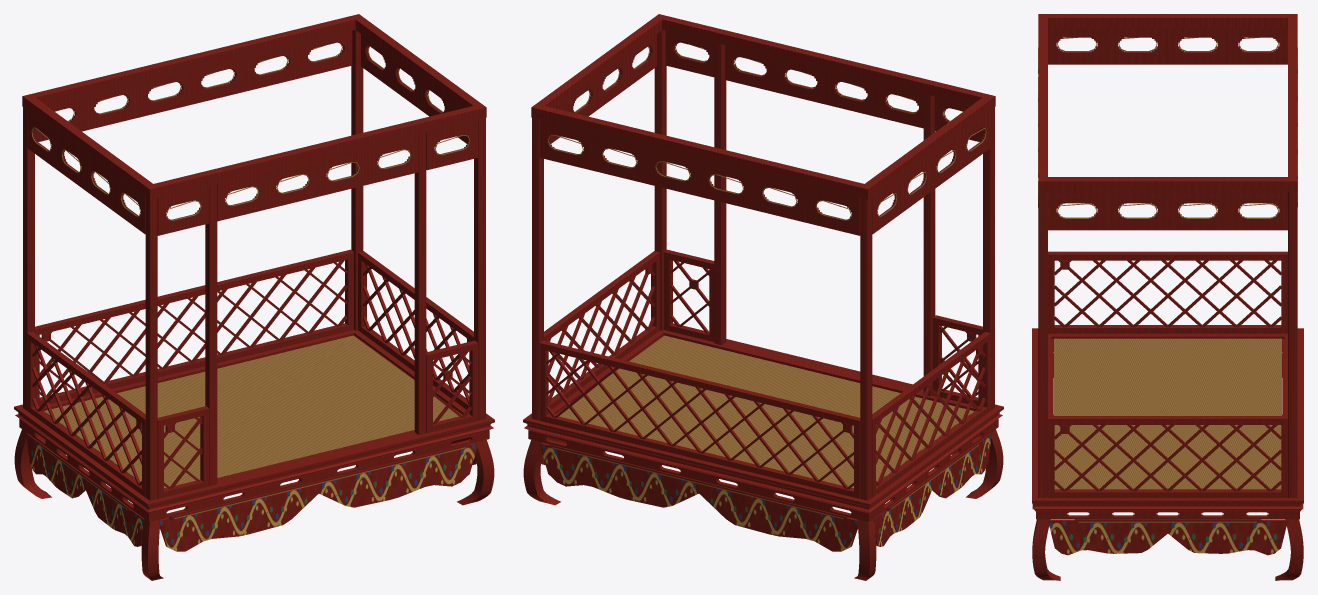
The model's file is tiqichuang-v1.glb.
The picture shows the model from 3 angles, left to right: view 1: azimuth 30°, elevation 25°; view 2: azimuth 150°, elevation 25°; view 3: azimuth 270°, elevation 25°; orthographic projection.
Parts seen in each view (by area): view 1: tengxi, guayan, zhu, weizi_kuang, dingkuang, weizi_ling, yatiao_cai, bingpan, shuyao, tui, diaoke, tuosai; view 2: guayan, tengxi, zhu, weizi_kuang, dingkuang, weizi_ling, yatiao_cai, bingpan, shuyao, tui, diaoke, tuosai; view 3: tengxi, guayan, dingkuang, weizi_kuang, weizi_ling, bingpan, yatiao_cai, zhu, shuyao, tui, diaoke, tuosai.
Boxes of the visible parts, <box> form: tengxi: <box>43,335,461,488</box>; guayan: <box>27,31,478,235</box>; zhu: <box>23,30,485,500</box>; weizi_kuang: <box>27,249,478,498</box>; dingkuang: <box>22,14,486,199</box>; weizi_ling: <box>32,260,471,489</box>; yatiao_cai: <box>26,434,478,551</box>; bingpan: <box>14,330,494,512</box>; shuyao: <box>19,418,489,521</box>; tui: <box>14,429,494,580</box>; diaoke: <box>31,42,470,518</box>; tuosai: <box>37,441,468,519</box>; guayan: <box>539,31,990,235</box>; tengxi: <box>556,335,974,488</box>; zhu: <box>532,30,994,500</box>; weizi_kuang: <box>539,249,990,498</box>; dingkuang: <box>531,14,995,199</box>; weizi_ling: <box>546,260,985,489</box>; yatiao_cai: <box>539,434,991,551</box>; bingpan: <box>523,330,1003,512</box>; shuyao: <box>528,418,998,521</box>; tui: <box>523,429,1003,580</box>; diaoke: <box>547,44,986,518</box>; tuosai: <box>549,441,980,519</box>; tengxi: <box>1054,338,1281,489</box>; guayan: <box>1048,28,1287,230</box>; dingkuang: <box>1038,14,1297,191</box>; weizi_kuang: <box>1048,251,1287,497</box>; weizi_ling: <box>1054,260,1281,491</box>; bingpan: <box>1032,328,1303,510</box>; yatiao_cai: <box>1048,521,1287,555</box>; zhu: <box>1038,191,1297,497</box>; shuyao: <box>1036,349,1299,519</box>; tui: <box>1032,415,1303,580</box>; diaoke: <box>1038,37,1297,522</box>; tuosai: <box>1034,509,1301,522</box>.
Bounding box in the file's own units: 2.1 × 2.3 × 1.4.
Materials: 4 (3 with a texture image).
